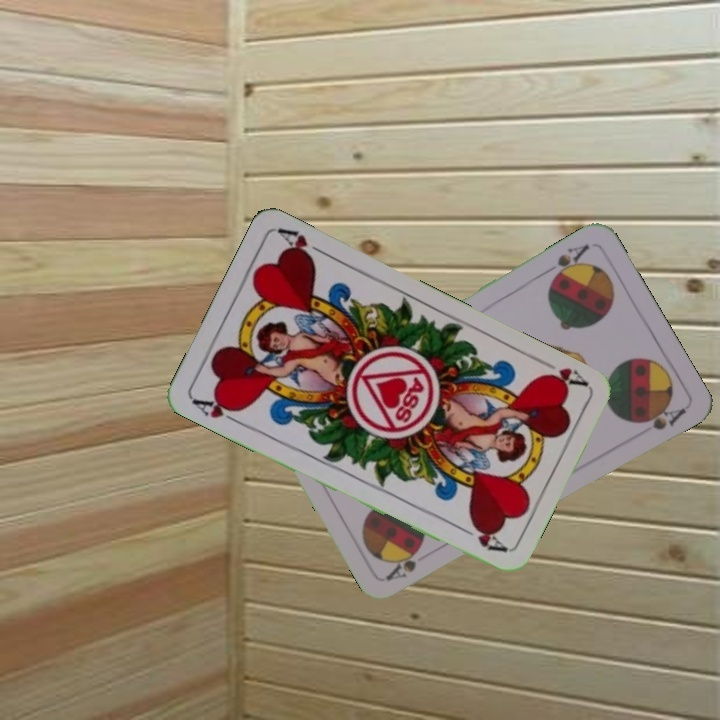HA: (534, 354, 589, 393), (189, 393, 245, 428)
SA: (540, 240, 592, 285), (382, 547, 422, 583)
